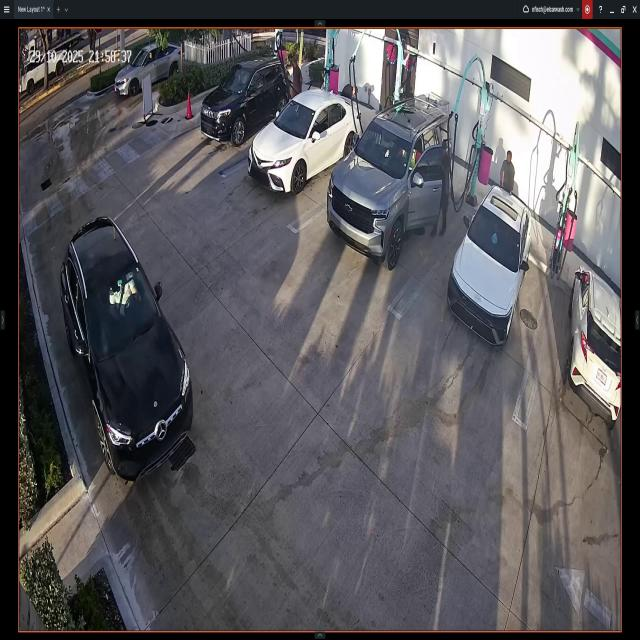Car: (60, 212, 193, 486), (326, 98, 453, 264), (448, 184, 532, 345), (249, 90, 359, 192), (570, 268, 622, 428), (202, 58, 291, 147), (115, 44, 184, 98)
